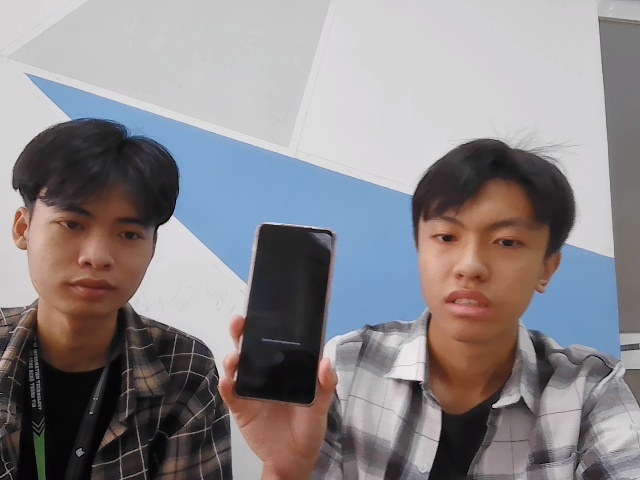human: (410, 135, 576, 341), (11, 121, 181, 317)
phone: (231, 213, 339, 407)
